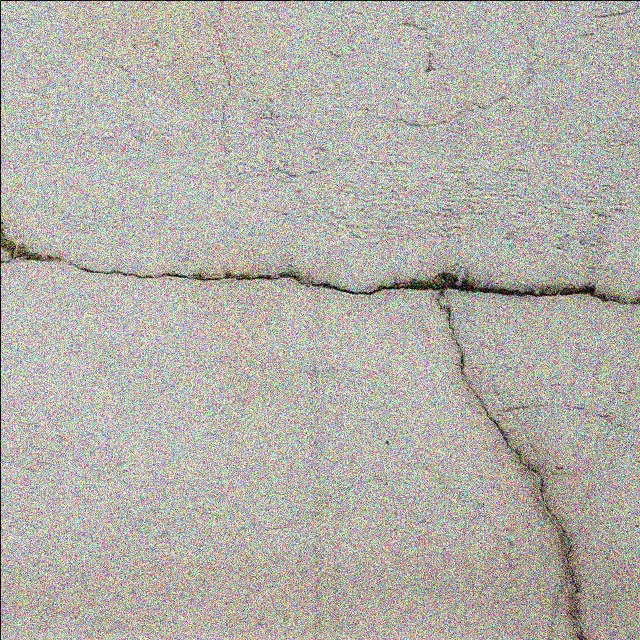SurfaceCrack: (1, 177, 559, 326), (422, 295, 634, 640)
